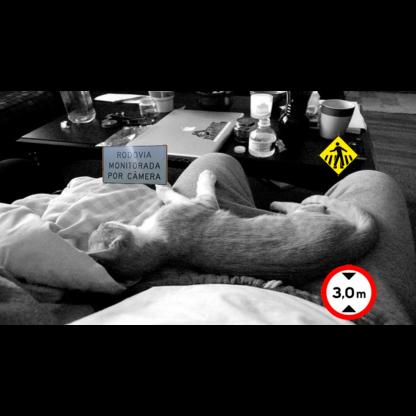A-32b: (318, 135, 359, 176)
I-E: (102, 145, 167, 185)
R-15: (321, 264, 377, 320)
